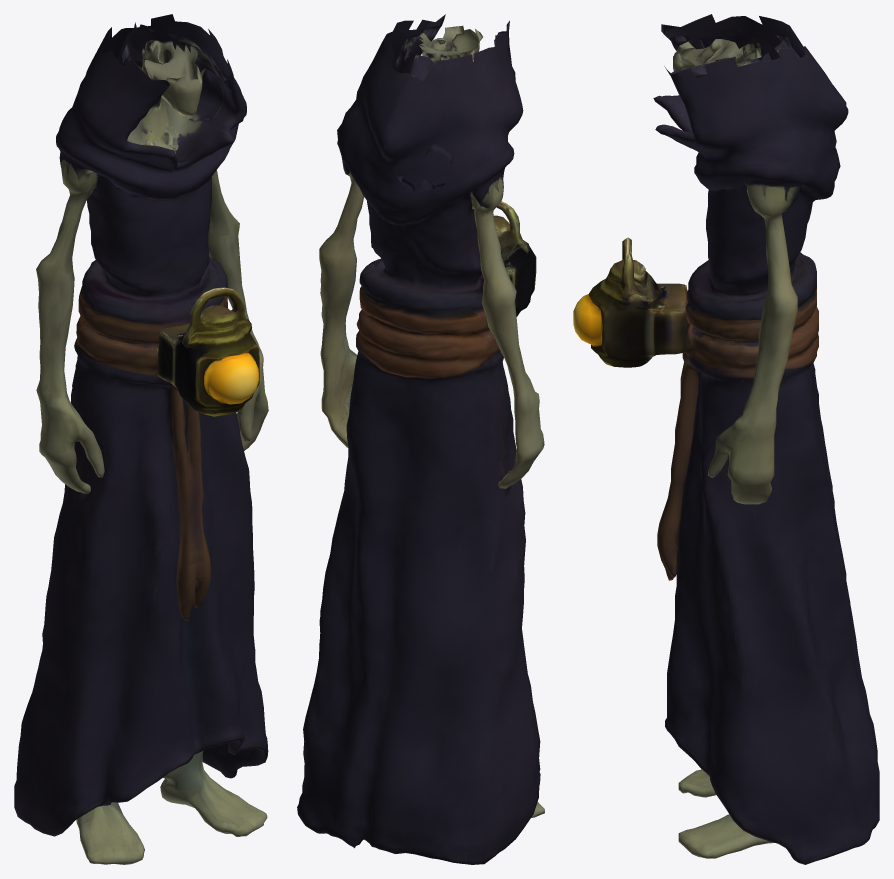
File: npc_ferryman.glb
3 views of the same model, side by side, from view 1: azimuth 30°, elevation 25°; view 2: azimuth 150°, elevation 25°; view 3: azimuth 270°, elevation 25° (orthographic). The views are drawn at different scales.
Size of the model in its own units: 0.4971 by 1.74 by 0.6145.
Materials: 1 (1 with a texture image).
